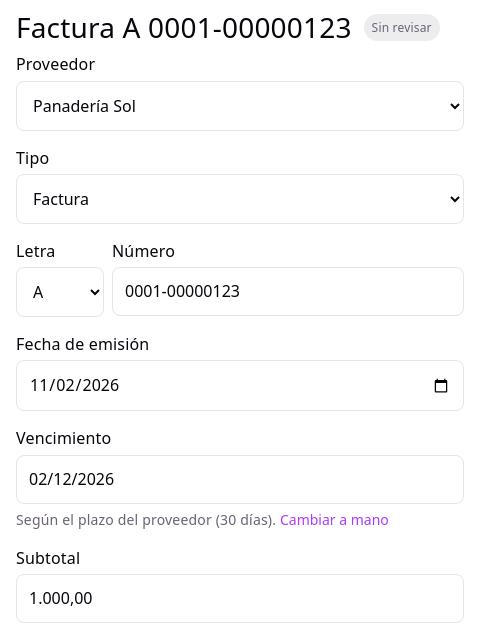
Test: Documento › prompts for Aceptar y guardar on 409 acceptable issues when editing an unreviewed document and clears on field edit
Replace the text in the field labelled "Subtotal" with "1.005,00" at (240, 599), box [16,574,464,623]
(page scrolled)
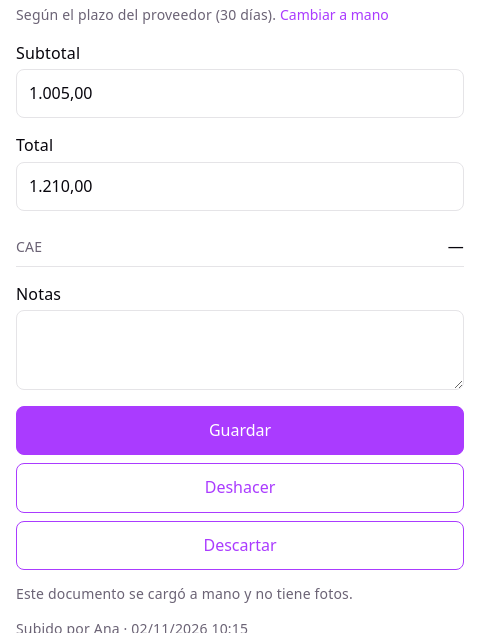
Click the button "Guardar" at (240, 431), box [16,406,464,455]
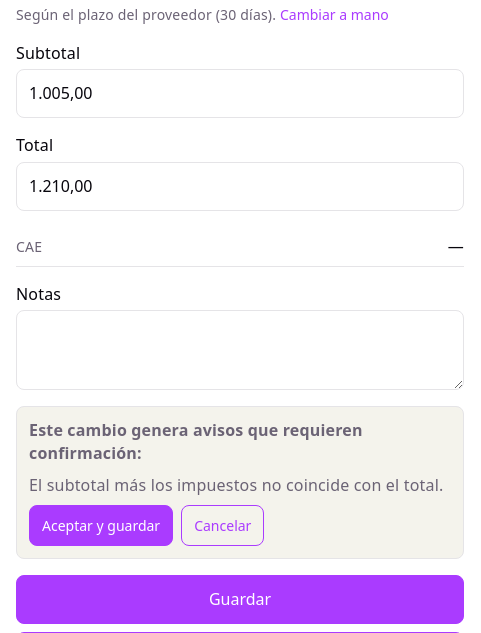
Now the text "Este cambio genera avisos que requieren confirmación:" is shown, box [29,419,363,464]
Now the button "Aceptar y guardar" is shown, box [29,505,173,546]
Note: Editing another field clears the pending confirmation prompt
Type "revisado" into the text box labelled "Notas" at (240, 350), box [16,310,464,390]
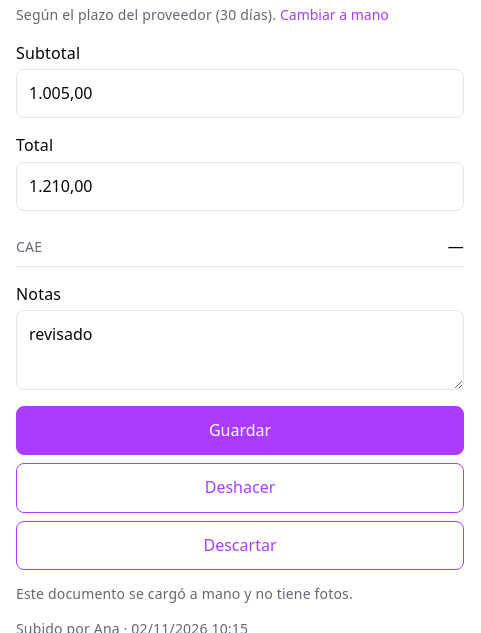
Now the button "Aceptar y guardar" is gone
Note: Saving again re-triggers prompt, then confirming sends acceptIssues
Click the button "Guardar" at (240, 431), box [16,406,464,455]
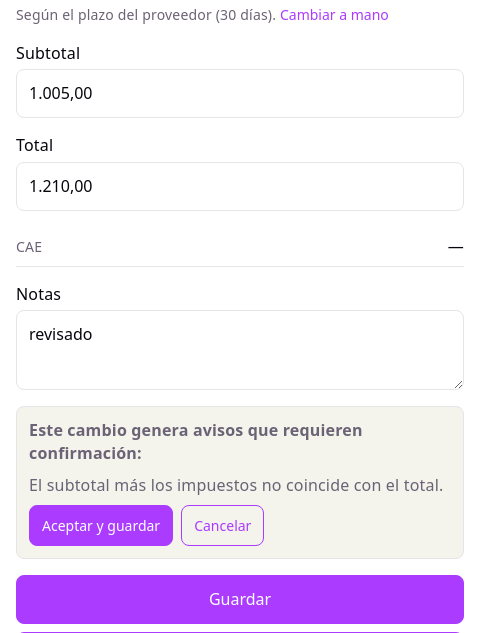
Click the button "Aceptar y guardar" at (101, 525), box [29,505,173,546]
(page scrolled)
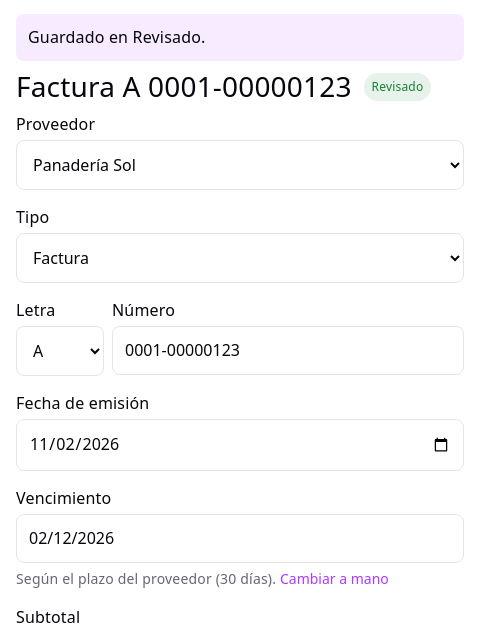
Now the text "Guardado en Revisado." is shown, box [16,14,464,61]
